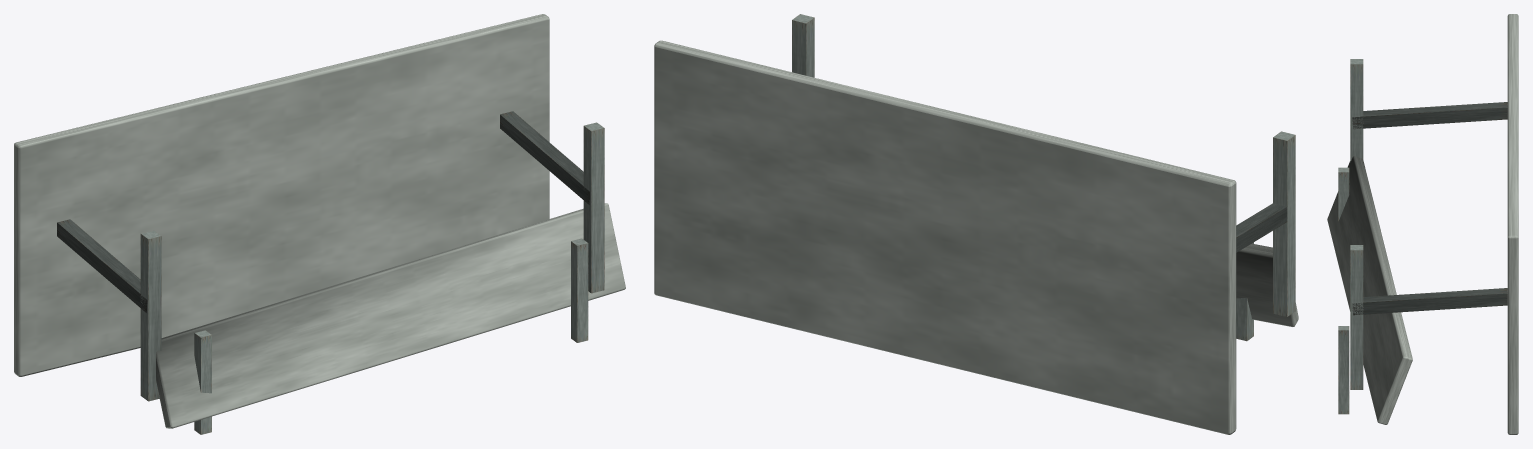
The model's file is overturned_table.glb.
3 renders of one model, left to right at view 1: azimuth 30°, elevation 25°; view 2: azimuth 150°, elevation 25°; view 3: azimuth 270°, elevation 25°, orthographic. The views are drawn at different scales.
Parts seen in each view (by area): view 1: OverturnedTable; view 2: OverturnedTable; view 3: OverturnedTable.
Boxes of the visible parts, box(x1,y1,x2,y2) form: OverturnedTable: box(14, 14, 625, 434); OverturnedTable: box(654, 14, 1298, 434); OverturnedTable: box(1327, 14, 1518, 434).
Size of the model in its own units: 2.4 by 1.02 by 0.8693.
1 material, 1 textured.
